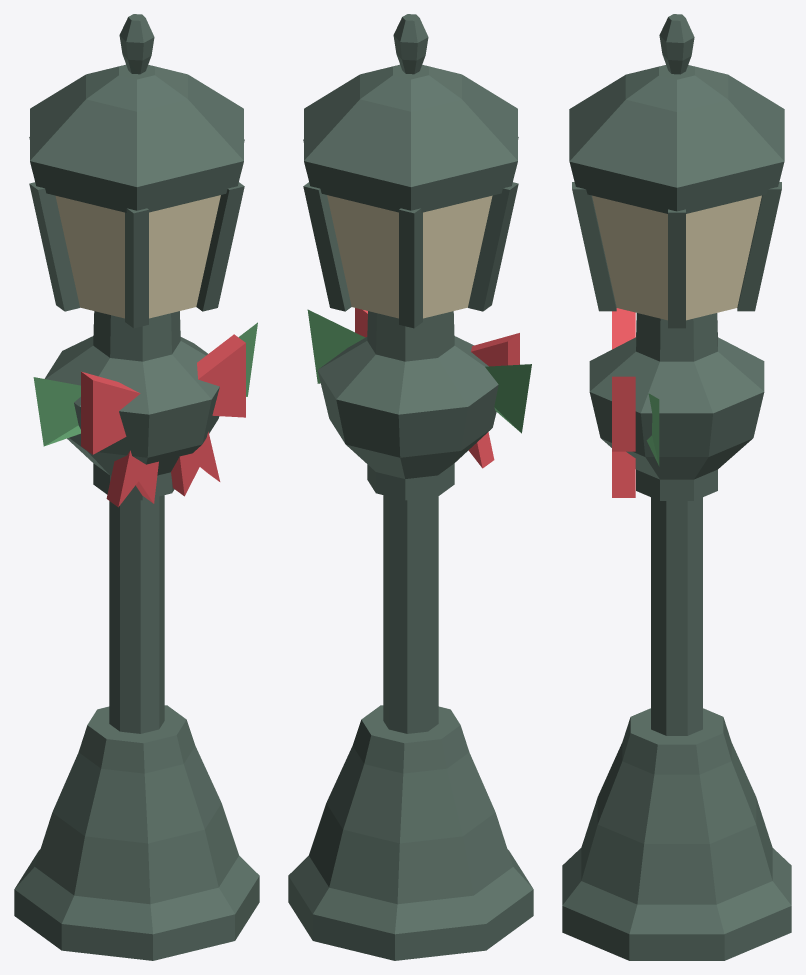
The model's file is Lamp.glb.
The picture shows the model from 3 angles, left to right: view 1: azimuth 30°, elevation 25°; view 2: azimuth 150°, elevation 25°; view 3: azimuth 270°, elevation 25°; orthographic projection.
Visible parts, largest first — view 1: Iron, Glass, Red, Pine; view 2: Iron, Glass, Pine, Red; view 3: Iron, Glass, Red, Pine.
Boxes of the visible parts, x1,y1,x2,y2 form: Iron: [14, 14, 259, 960]; Glass: [55, 195, 220, 318]; Red: [81, 334, 245, 507]; Pine: [33, 322, 257, 446]; Iron: [288, 14, 533, 960]; Glass: [327, 195, 492, 318]; Pine: [307, 309, 531, 433]; Red: [355, 308, 519, 468]; Iron: [562, 14, 791, 960]; Glass: [592, 195, 761, 320]; Red: [612, 308, 635, 497]; Pine: [646, 393, 659, 466].
Size of the model in its own units: 0.2627 by 0.997 by 0.2317.
